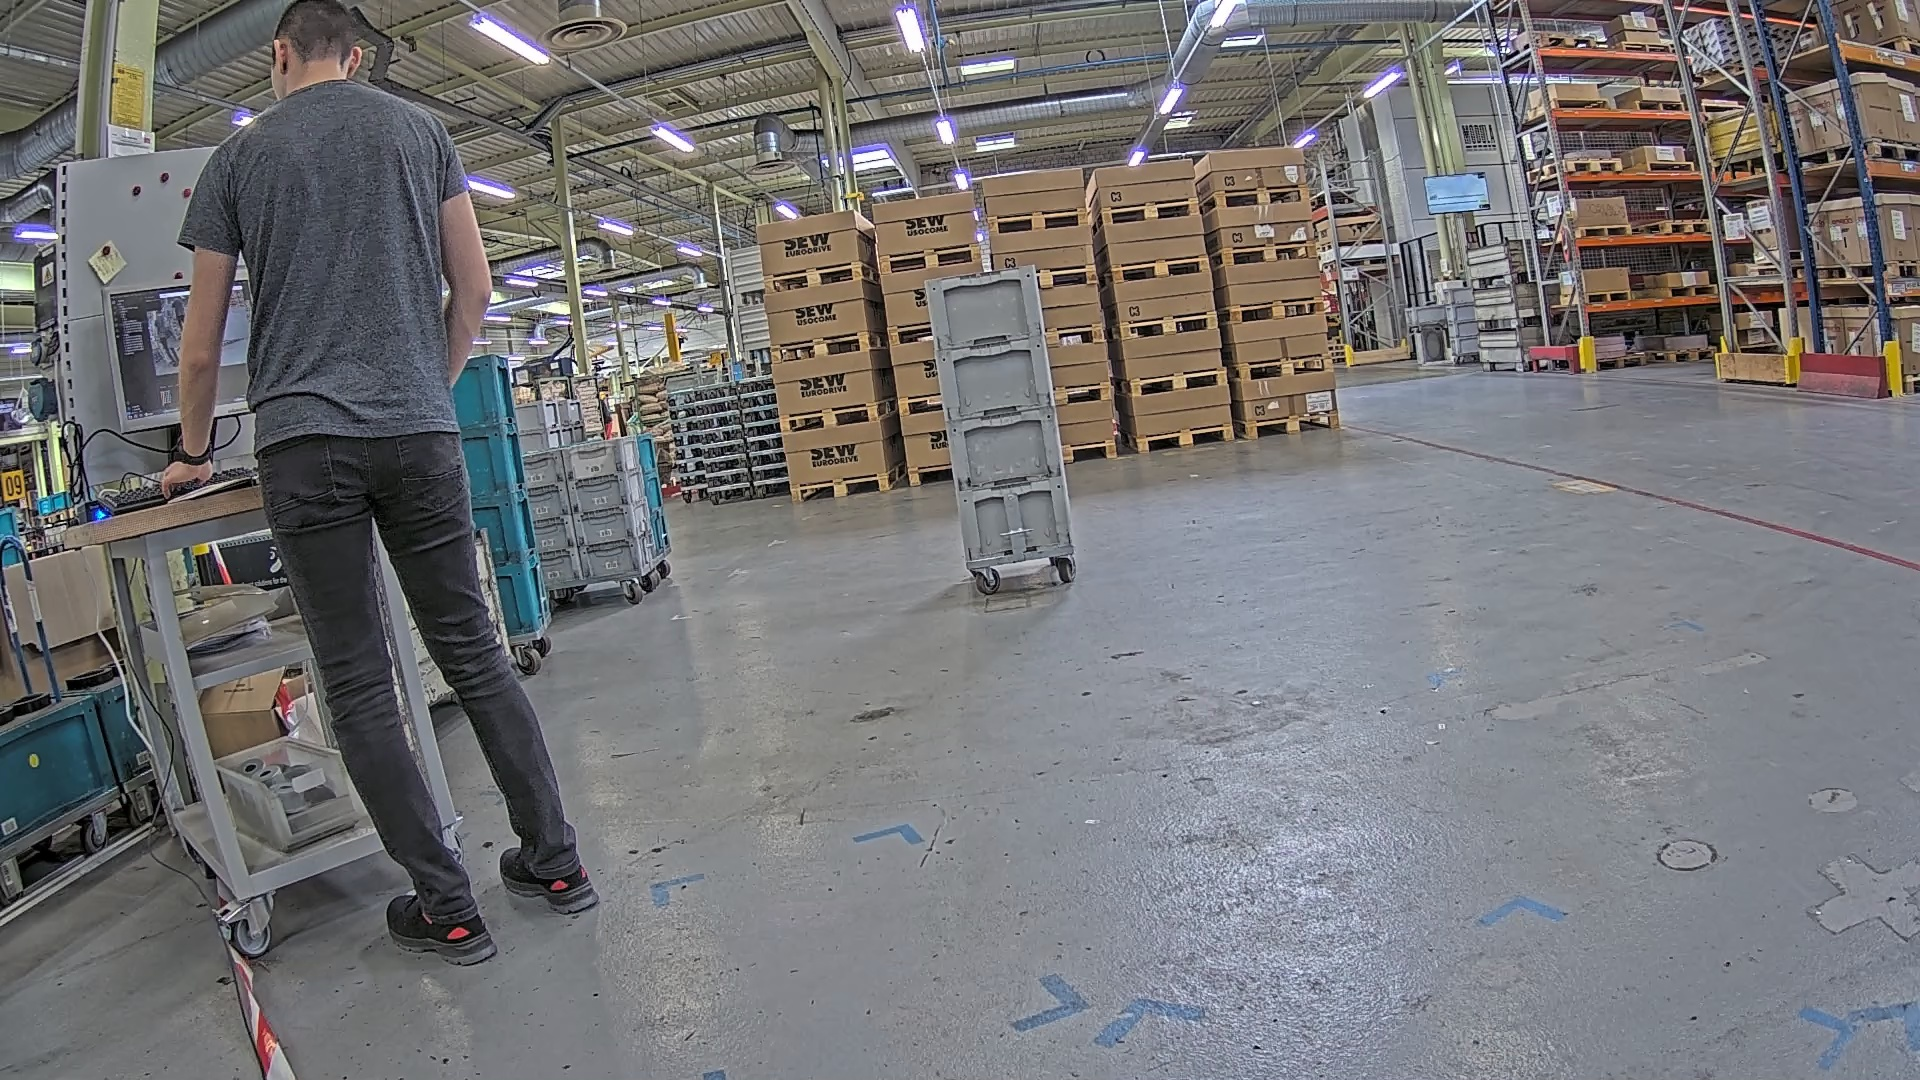4G: (918, 262, 1073, 568)
